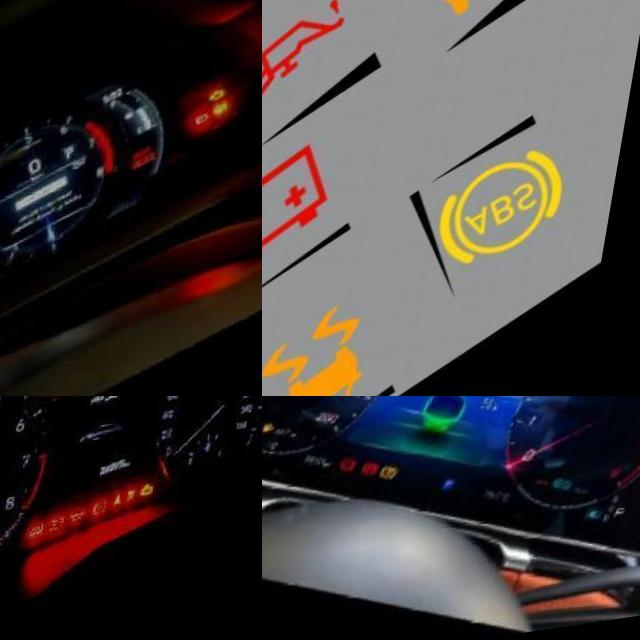Low fuel level: (282, 420, 298, 435)
Seat Belt: (130, 508, 143, 523)
